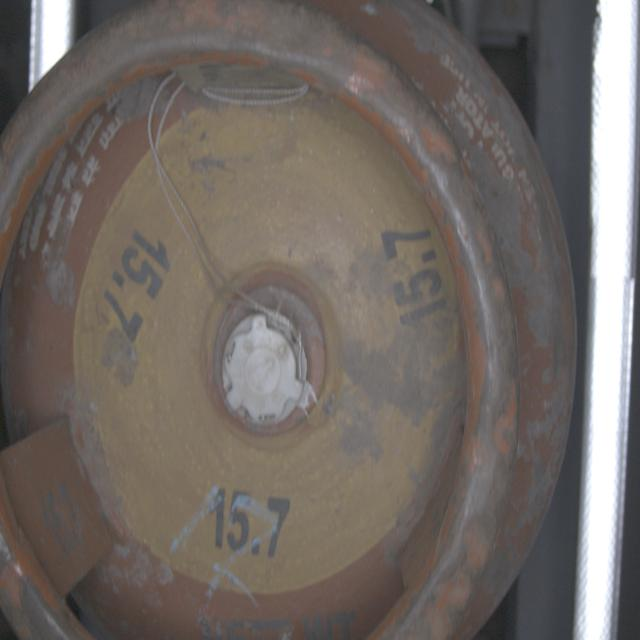Cap: (220, 312, 315, 438)
